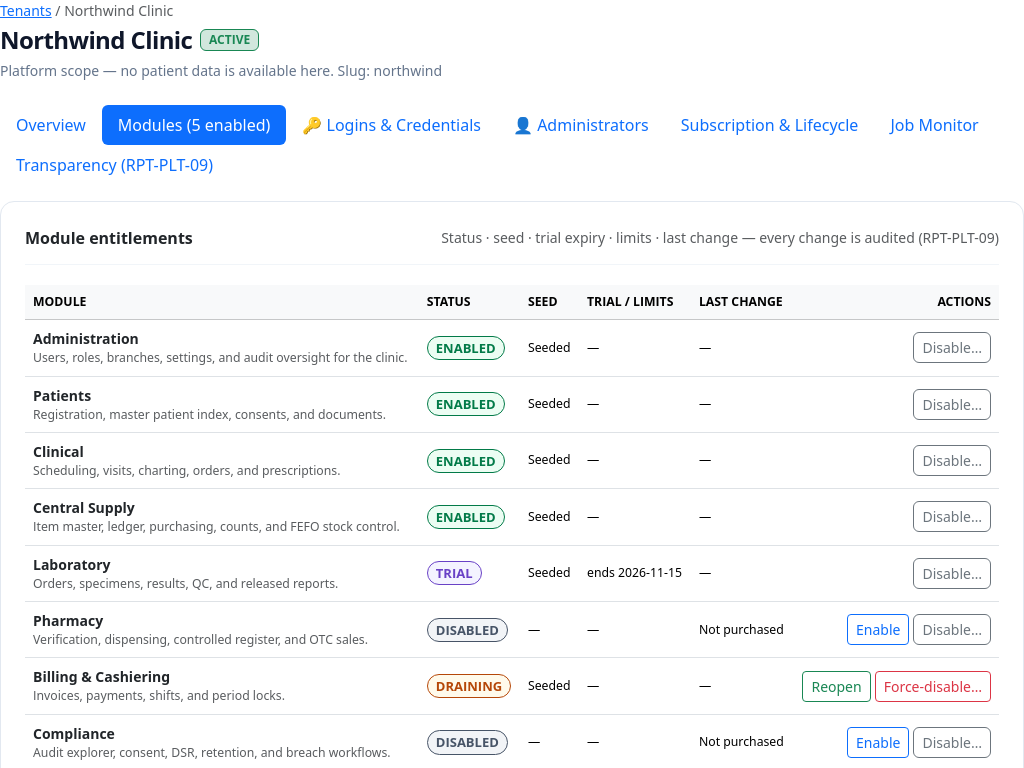
Test: Platform console (todo §1.7) › TenantDetailPage Modules tab renders status/seed/trials and opens the disable preflight
Expected: the tab "Modules (5 enabled)" is shown, [102,105,286,145]
Expected: the text "ENABLED" is shown 4 times, [427,336,505,360]; [427,392,505,416]; [427,448,505,473]; [427,505,505,529]
Note: Three-beat disable: preflight first.
Click the button "Disable…" in the row of "Administration" at x=952, y=348, box [913,332,991,363]
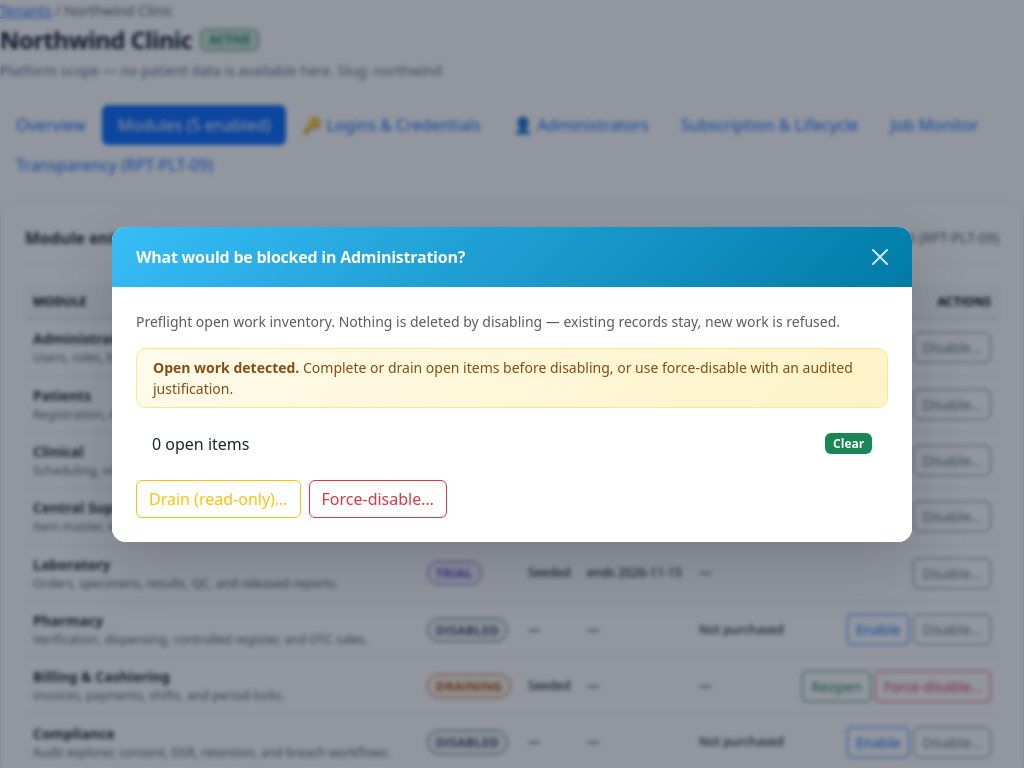
Expected: the heading "What would be blocked in Administration?" is shown, [136,244,465,268]
Expected: the button "Drain (read-only)…" is shown, [136,480,300,518]
Expected: the button "Force-disable…" is shown, [308,480,447,518]
